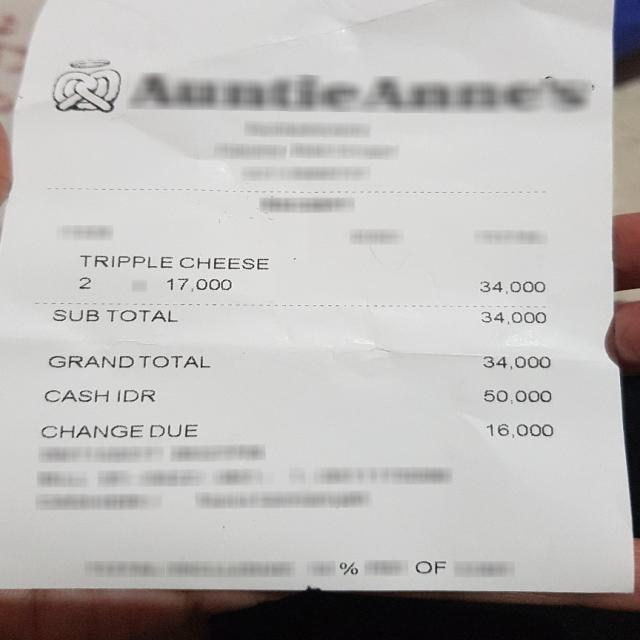kertas: (0, 0, 633, 593)
